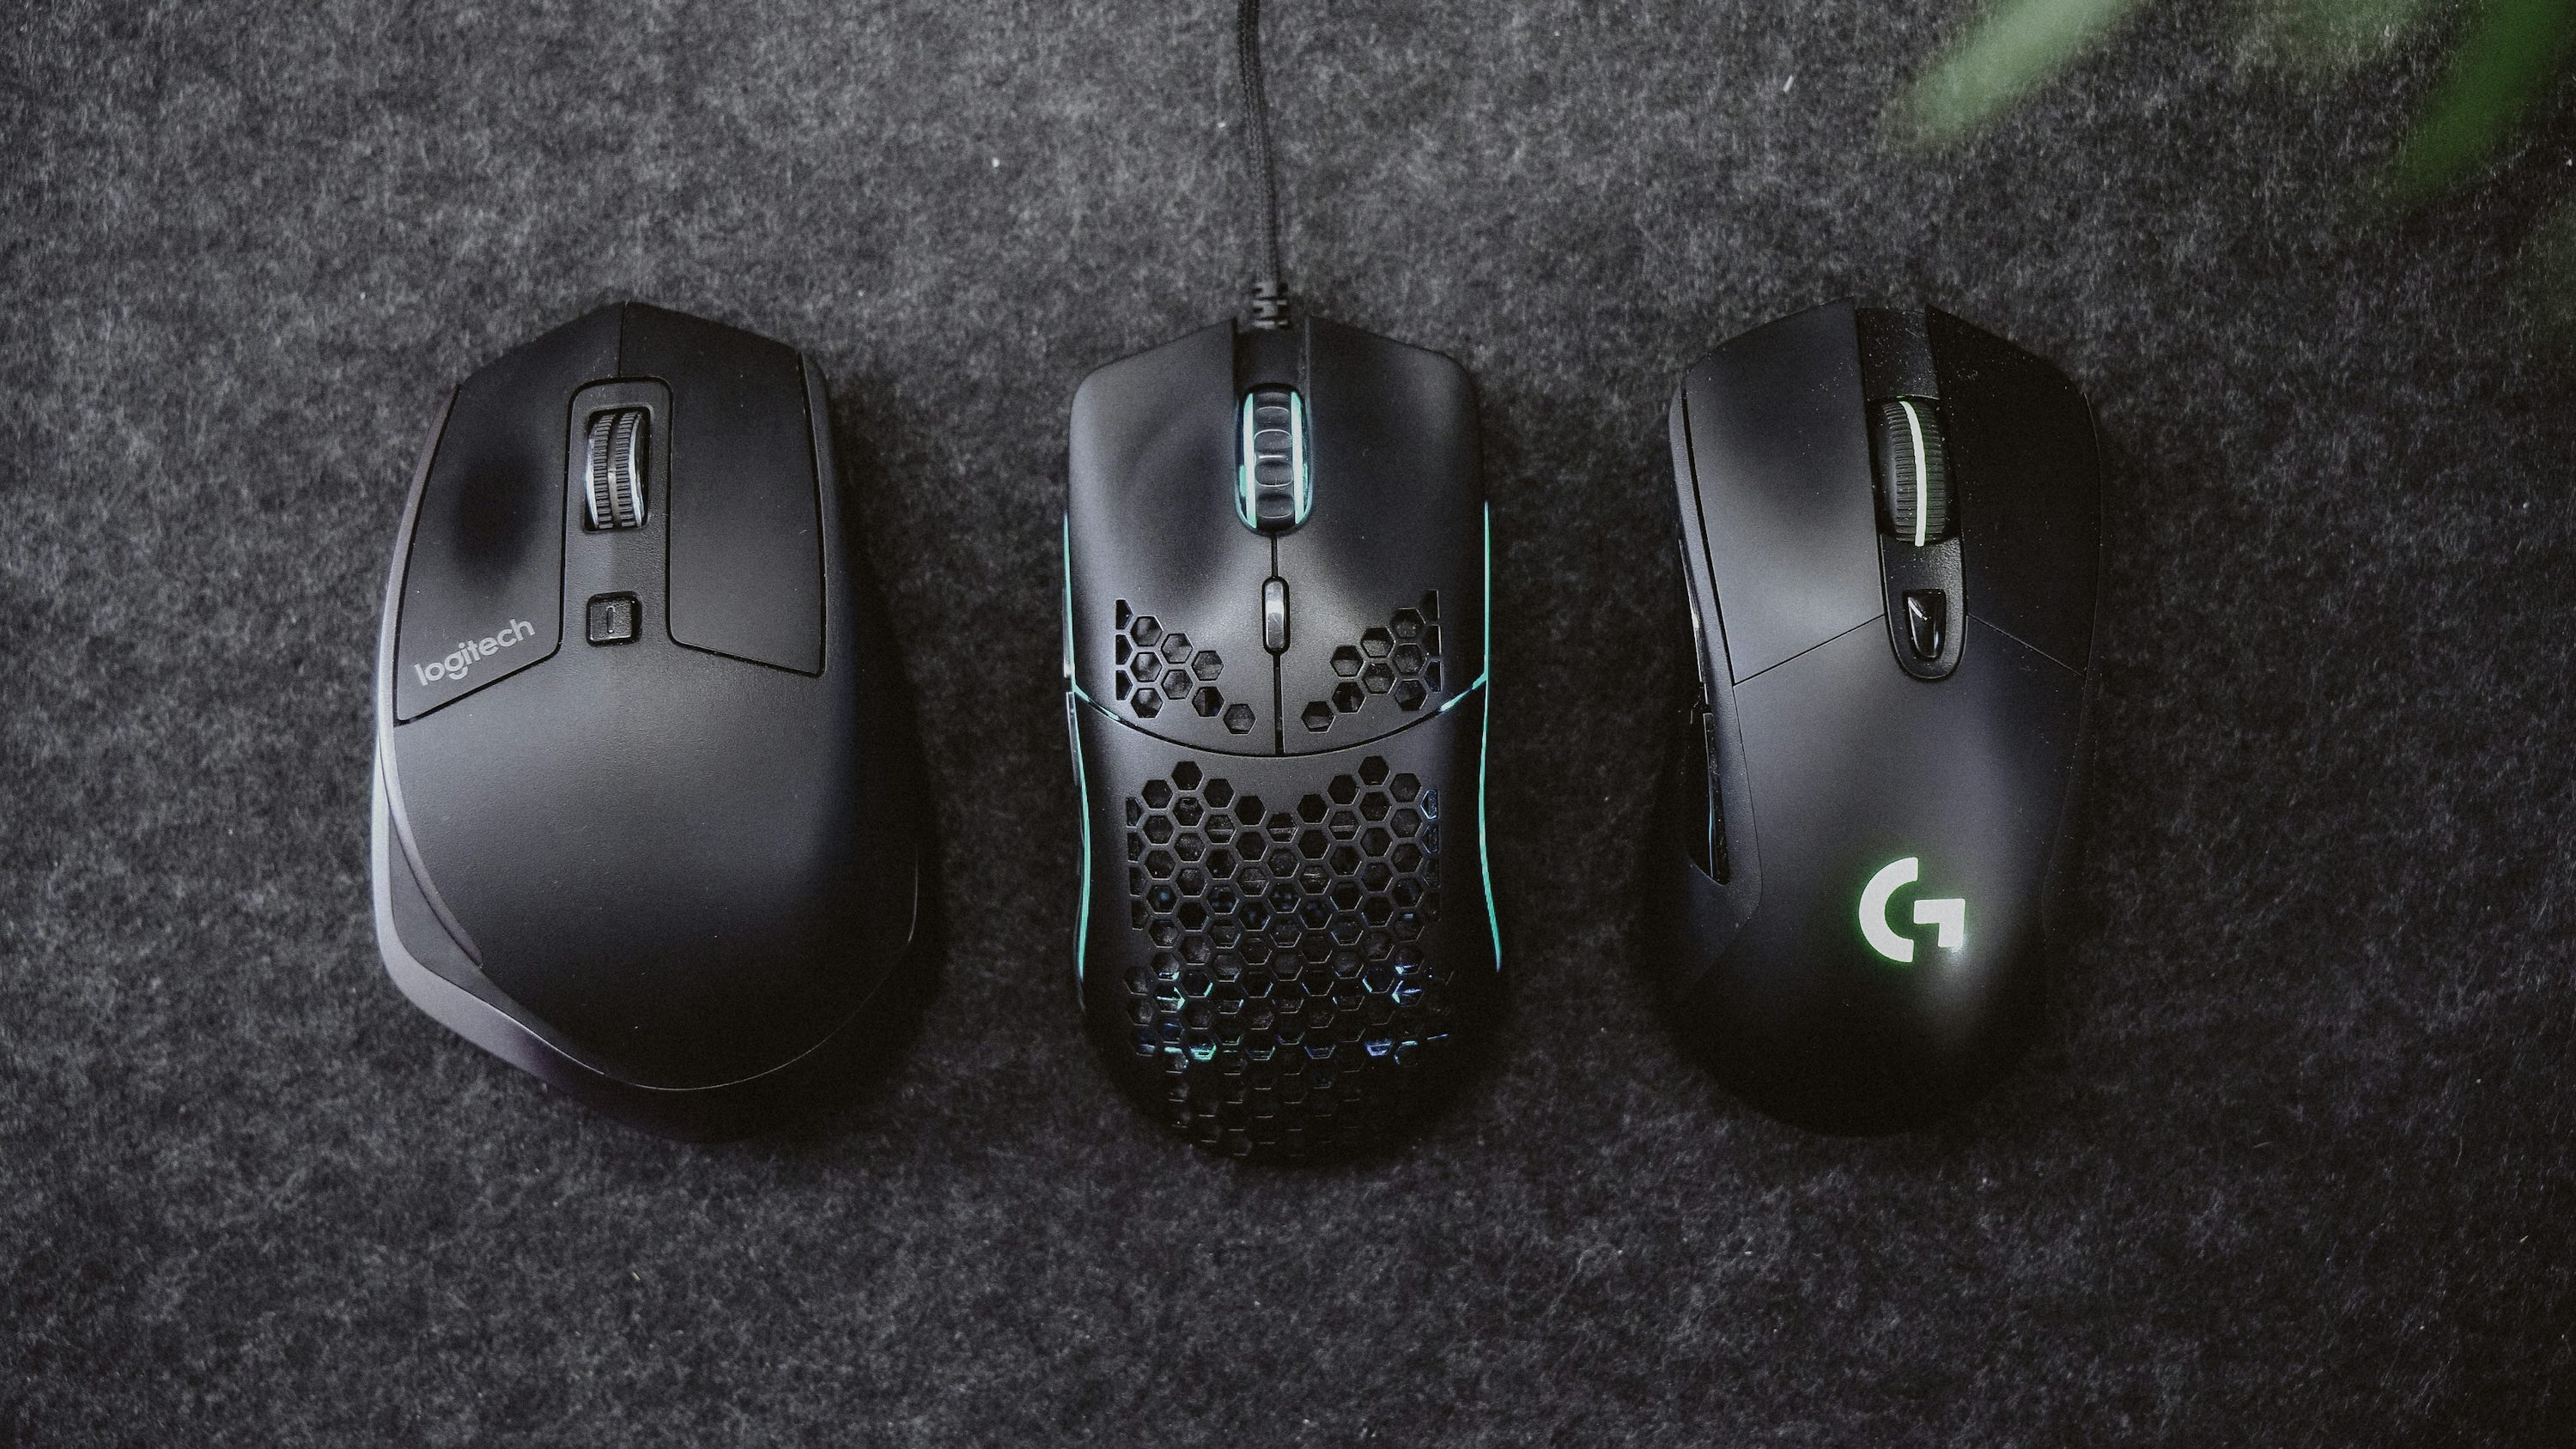mouse: (260, 200, 984, 1169), (1012, 214, 1575, 1185), (1606, 253, 2187, 1146)
